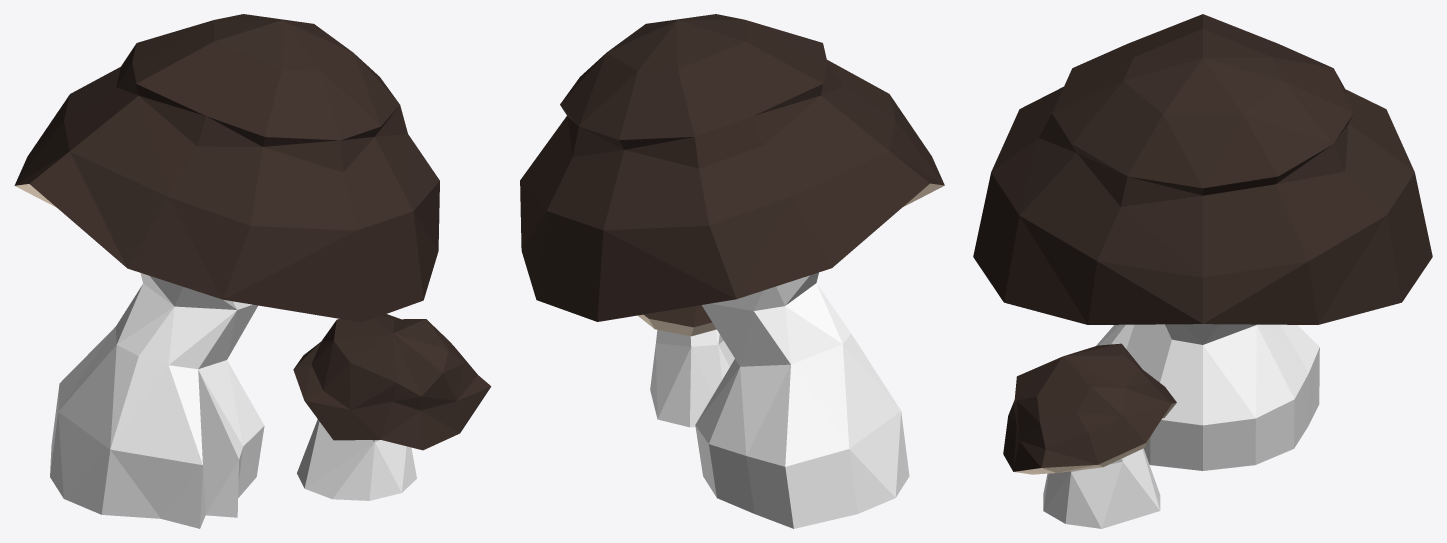
The model's file is _mashroom_1.glb.
3 views of the same model, side by side, from view 1: azimuth 30°, elevation 25°; view 2: azimuth 150°, elevation 25°; view 3: azimuth 270°, elevation 25° (orthographic).
Parts seen in each view (by area): view 1: mashroom_1; view 2: mashroom_1; view 3: mashroom_1.
Boxes of the visible parts, x1,y1,x2,y2 form: mashroom_1: (14, 14, 491, 528); mashroom_1: (520, 14, 944, 528); mashroom_1: (973, 14, 1432, 528).
Size of the model in its own units: 0.8869 by 0.9094 by 0.8756.
Materials: 1 (1 with a texture image).
